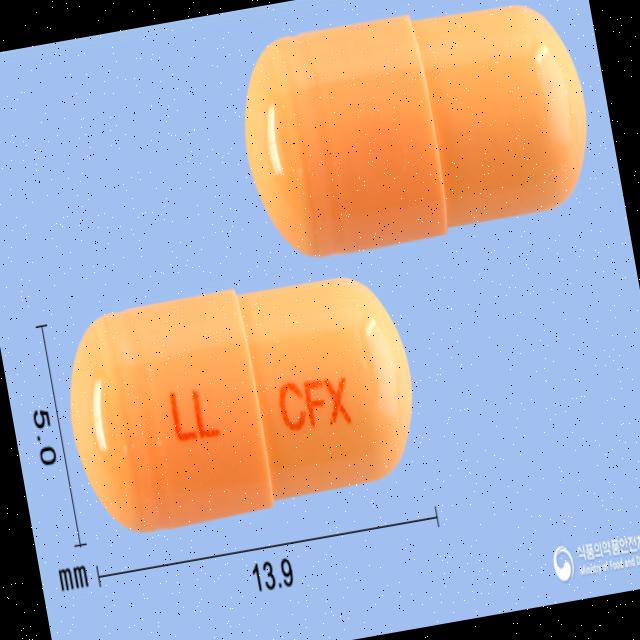Cefaxamin Cap: (48, 254, 434, 546), (224, 0, 612, 275)
